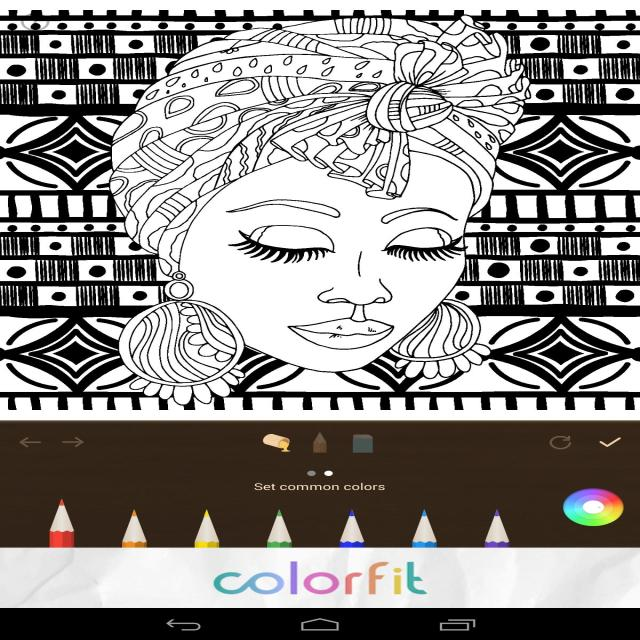button: (563, 488, 626, 528), (297, 429, 342, 457), (252, 431, 296, 455), (344, 431, 381, 457), (542, 430, 580, 455), (11, 430, 52, 453), (56, 430, 94, 454), (596, 430, 631, 454)
heading: (205, 560, 440, 599)
image: (2, 0, 640, 421)
text: (252, 481, 387, 493)
